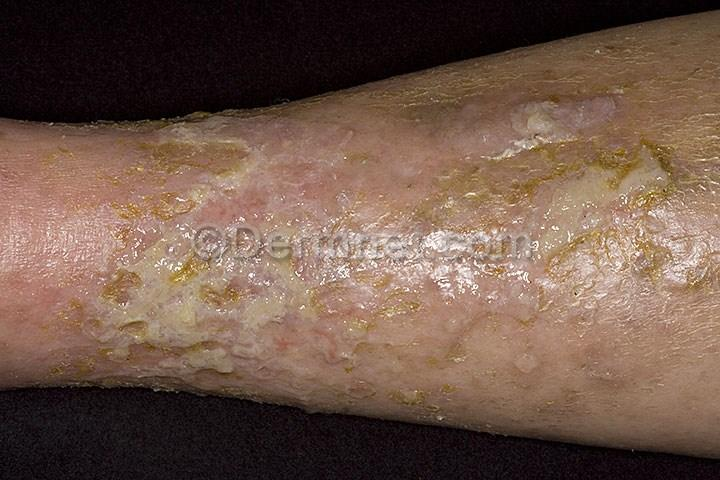Eczema: (221, 262, 584, 429), (316, 91, 577, 233), (584, 16, 717, 254), (0, 126, 121, 386), (585, 266, 720, 463), (126, 127, 319, 227), (94, 236, 219, 390)
